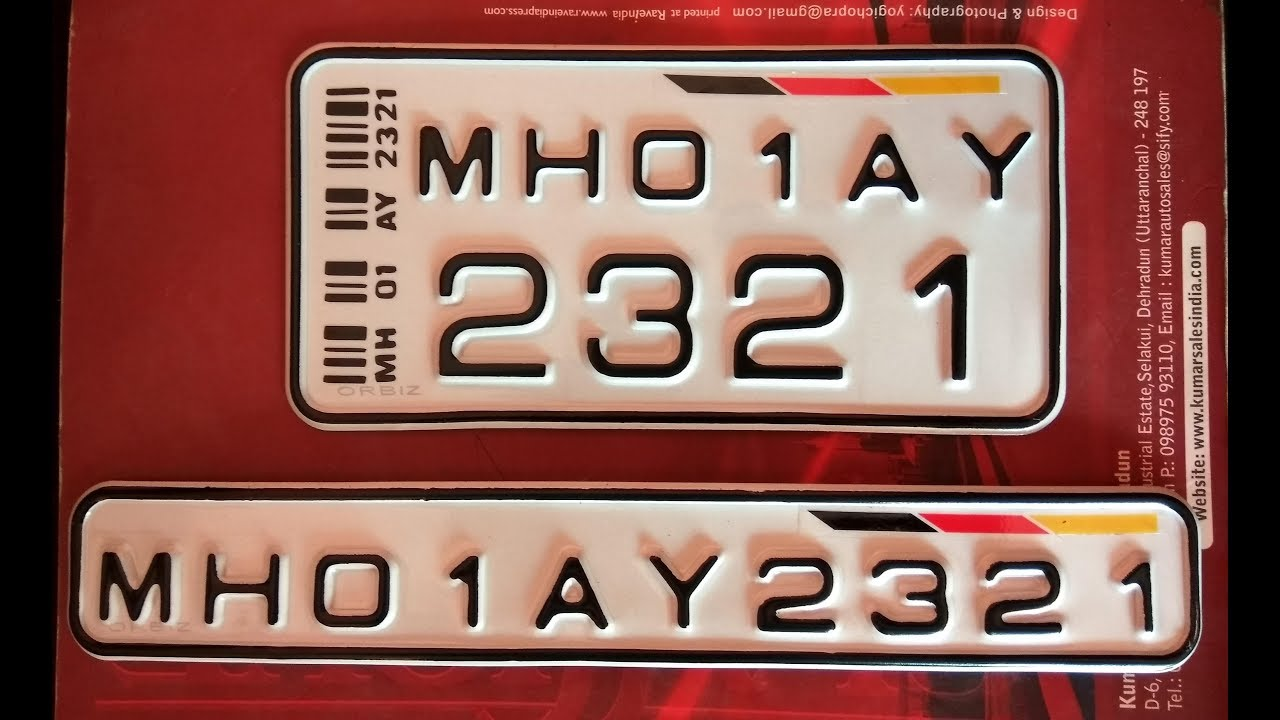number_plate: (285, 37, 1069, 443), (63, 477, 1207, 672)
